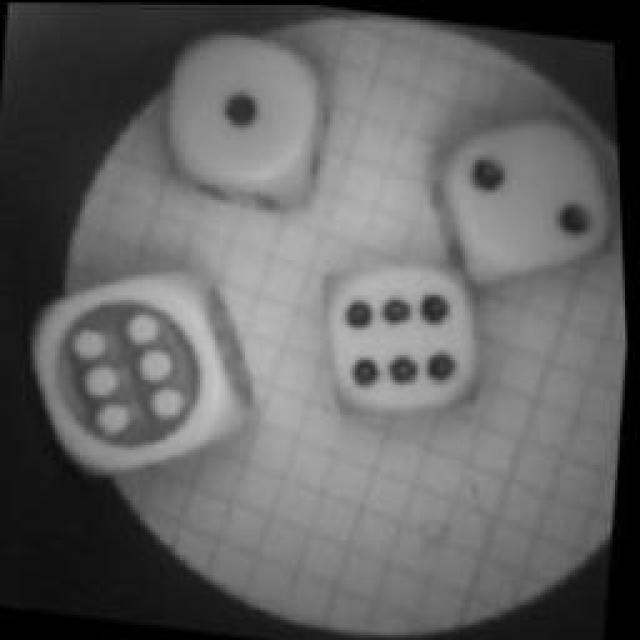dice_1: (152, 20, 338, 208)
dice_2: (412, 86, 626, 296)
dice_6: (12, 248, 266, 488), (308, 239, 508, 429)
